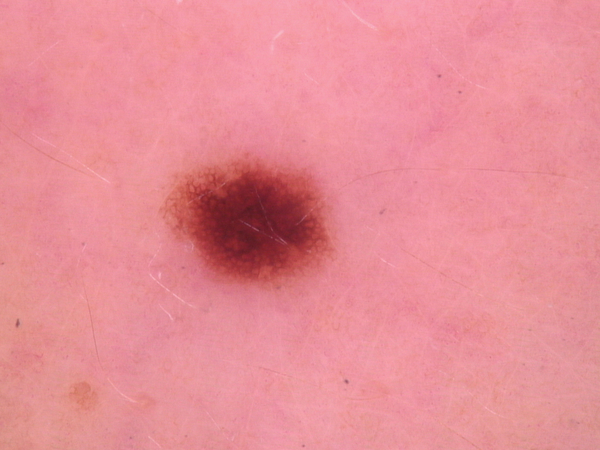Detected Lesion: (162, 156, 337, 291)
